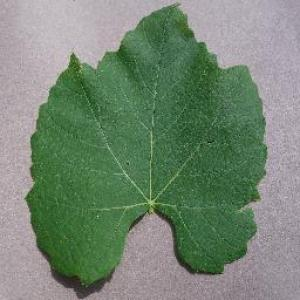Folha: (24, 1, 268, 287)
